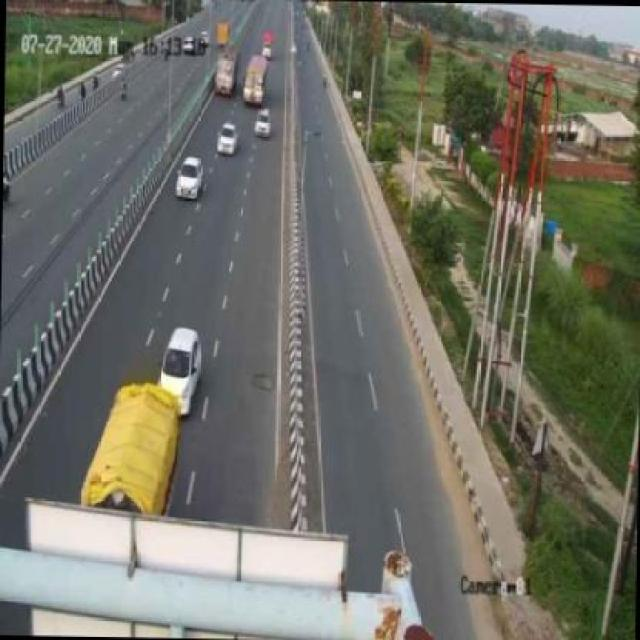car: (160, 328, 209, 415), (173, 157, 204, 200), (216, 121, 238, 157), (252, 109, 271, 140)
